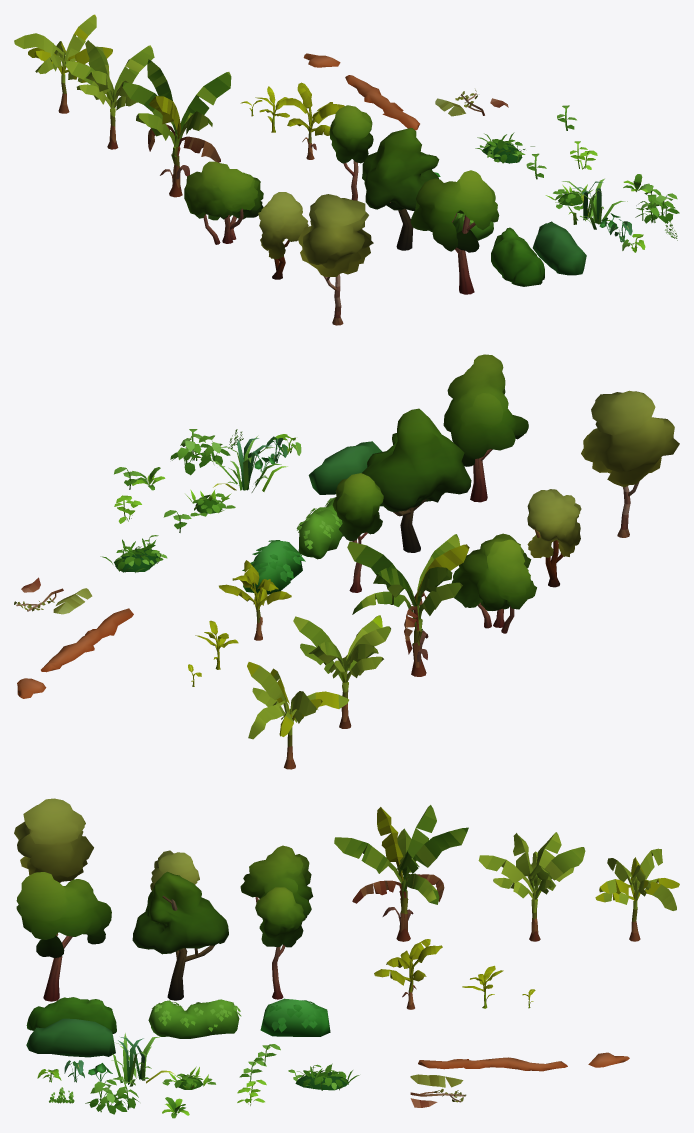
The model's file is RAC_Trees_01.fbx.
The picture shows the model from 3 angles, top to bottom: view 1: azimuth 30°, elevation 25°; view 2: azimuth 150°, elevation 25°; view 3: azimuth 270°, elevation 25°; orthographic projection. The views are drawn at different scales.
Visible parts, largest first — view 1: SM_Arbre_001, SM_Arbre_004, SM_Bananier_002, SM_Arbre_003, SM_Arbre_003.001, SM_Bananier_001, SM_DamagedWall_021, SM_Arbre_002.002, SM_Arbre_002, SM_Buisson_003, SM_Buisson_004, SM_Bananier_004 (+5 smaller); view 2: SM_Arbre_003, SM_Arbre_004, SM_Arbre_001, SM_Bananier_002, SM_Arbre_003.001, SM_Arbre_002.002, SM_Bananier_001, SM_DamagedWall_021, SM_Arbre_002, SM_Buisson_004, SM_Buisson_001, SM_Buisson_002 (+6 smaller); view 3: SM_Arbre_003, SM_Bananier_002, SM_Arbre_001, SM_Arbre_004, SM_Bananier_001, SM_Buisson_002, SM_DamagedWall_021, SM_Arbre_003.001, SM_Buisson_004, SM_Arbre_002, SM_Buisson_001, SM_Buisson_003 (+7 smaller).
Part boxes in pixels (x1,y1,x2,y2): SM_Arbre_001: (410,170,499,294); SM_Arbre_004: (298,194,373,325); SM_Bananier_002: (122,59,231,197); SM_Arbre_003: (362,128,439,250); SM_Arbre_003.001: (184,161,263,244); SM_Bananier_001: (65,40,154,149); SM_DamagedWall_021: (14,14,112,113); SM_Arbre_002.002: (258,192,308,279); SM_Arbre_002: (329,105,373,200); SM_Buisson_003: (491,227,544,286); SM_Buisson_004: (532,221,586,275); SM_Bananier_004: (278,82,344,159); SM_Arbre_003: (362,408,471,552); SM_Arbre_004: (581,390,679,537); SM_Arbre_001: (443,354,528,502); SM_Bananier_002: (347,534,469,676); SM_Arbre_003.001: (452,533,536,633); SM_Arbre_002.002: (527,489,581,587); SM_Bananier_001: (293,615,390,728); SM_DamagedWall_021: (247,662,348,769); SM_Arbre_002: (332,473,383,592); SM_Buisson_004: (308,441,382,494); SM_Buisson_001: (242,540,305,594); SM_Buisson_002: (296,497,343,559); SM_Arbre_003: (132,871,228,1000); SM_Bananier_002: (334,805,468,941); SM_Arbre_001: (16,872,111,1001); SM_Arbre_004: (14,798,93,935); SM_Bananier_001: (478,832,585,941); SM_Buisson_002: (148,999,241,1038); SM_DamagedWall_021: (595,848,679,941); SM_Arbre_003.001: (240,845,313,917); SM_Buisson_004: (26,1018,115,1057); SM_Arbre_002: (255,887,306,999); SM_Buisson_001: (260,998,330,1036); SM_Buisson_003: (26,997,116,1033).
Size of the model in its own units: 19.37 by 5.9 by 26.65.
